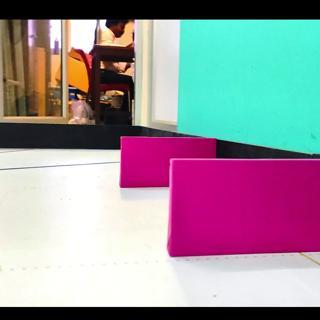xparking: (172, 163, 312, 250), (123, 137, 166, 187)
